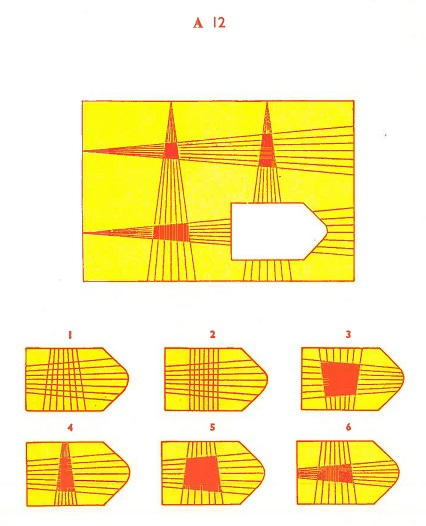Array 1: (19, 325, 132, 416)
Array 2: (157, 326, 273, 417)
Array 3: (296, 326, 409, 416)
Array 4: (19, 419, 134, 511)
Array 5: (157, 419, 271, 512)
Array 6: (293, 418, 405, 512)
Matrix: (74, 94, 362, 288)
Matrix Unknown: (227, 200, 330, 261)
